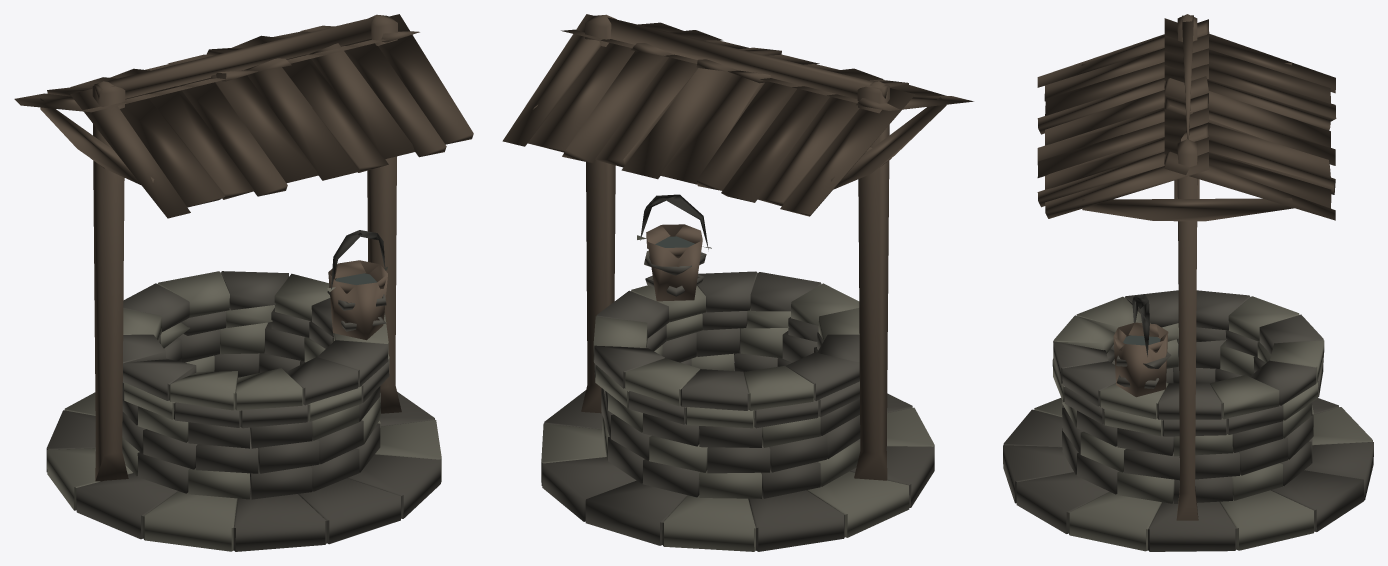
File: farm_well_2.glb
3 renders of one model, left to right at view 1: azimuth 30°, elevation 25°; view 2: azimuth 150°, elevation 25°; view 3: azimuth 270°, elevation 25°, orthographic. The views are drawn at different scales.
Visible parts, largest first — view 1: farm_well_2; view 2: farm_well_2; view 3: farm_well_2.
Part boxes in pixels (<box>): farm_well_2: <box>14,14,473,551</box>; farm_well_2: <box>502,14,973,551</box>; farm_well_2: <box>1003,14,1373,551</box>.
Bounding box in the file's own units: 2.86 × 3.38 × 2.87.
Materials: 1 (1 with a texture image).
